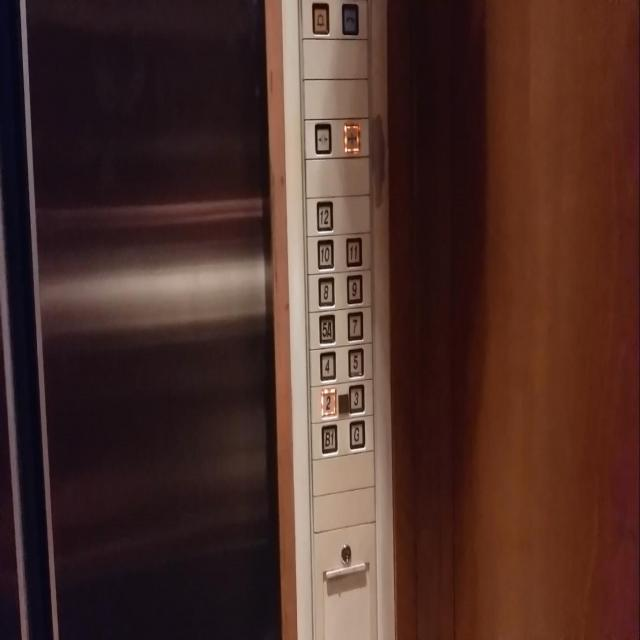10: (316, 237, 334, 271)
11: (344, 234, 362, 268)
12: (315, 199, 333, 233)
2: (319, 386, 336, 417)
3: (347, 383, 365, 414)
4: (318, 350, 336, 382)
5: (346, 346, 364, 377)
5A: (318, 313, 335, 344)
7: (346, 309, 363, 341)
8: (317, 275, 335, 307)
9: (345, 273, 363, 305)
B1: (320, 423, 337, 454)
G: (348, 418, 365, 450)
alarm: (311, 0, 330, 37)
call: (340, 1, 359, 35)
close: (342, 122, 360, 153)
keyhole: (339, 539, 353, 565)
open: (313, 121, 332, 155)
